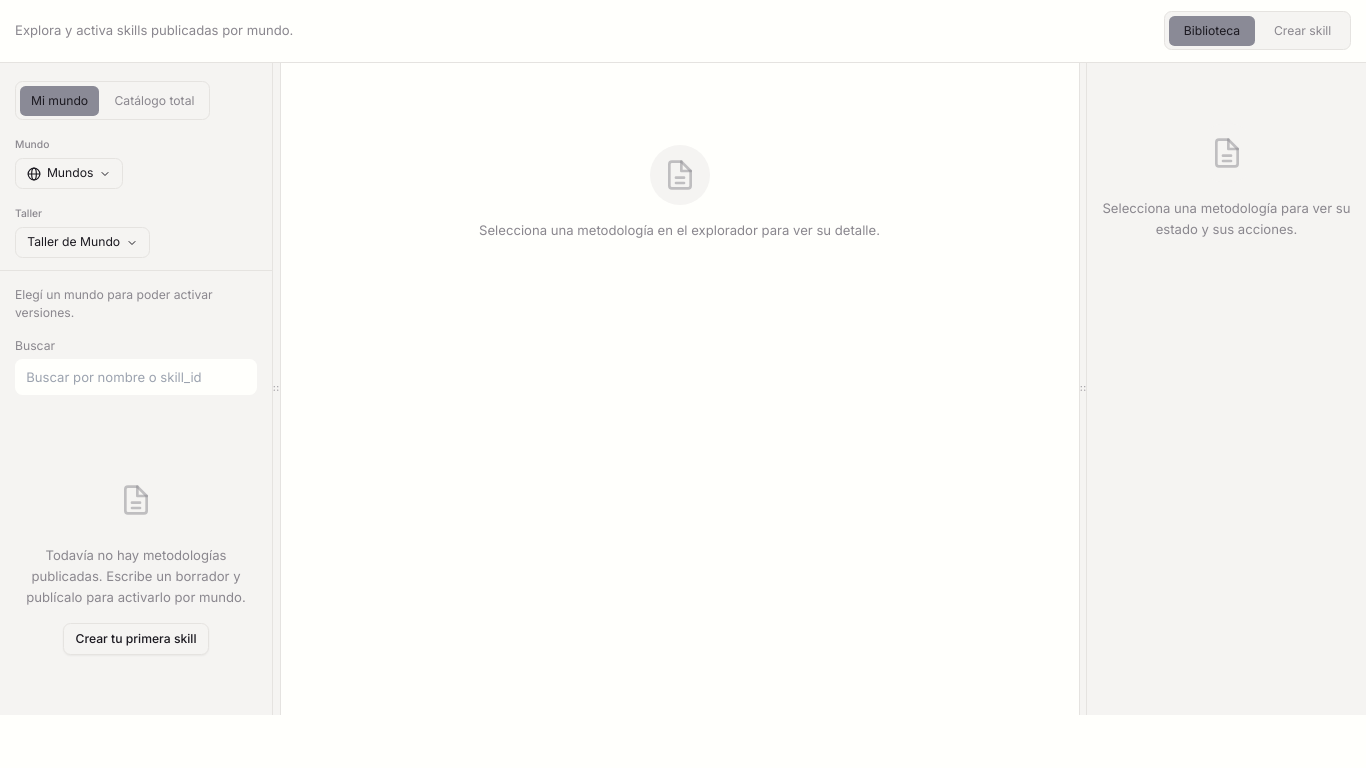
Test: ToolWorkshop — TW13 adaptation entry on published rows › derives an Oficiales skill through the gate and opens the co-creation tab
Click the tab "Catálogo total" at (154, 101), box left=103, top=86, right=206, bottom=116
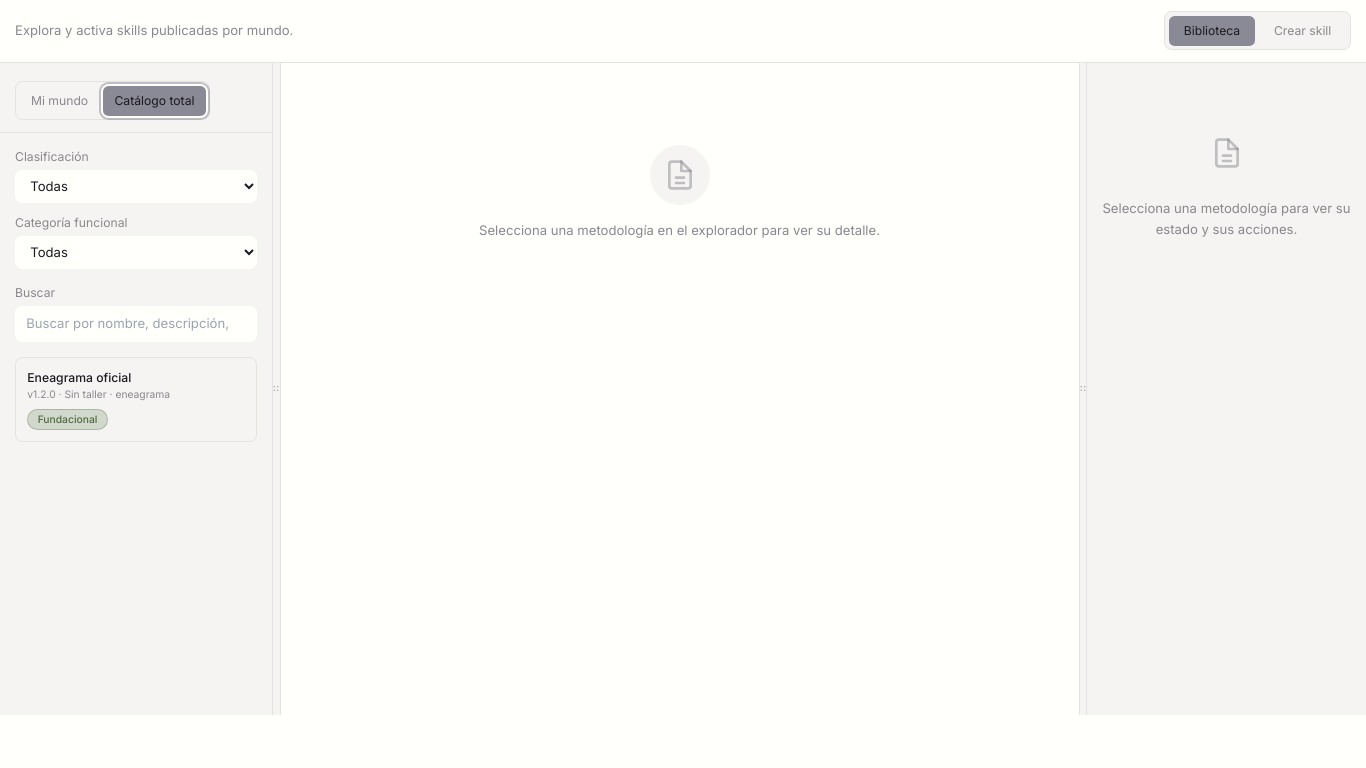
expect the text "Eneagrama oficial" is shown: met
Click the text "Eneagrama oficial" at (79, 378), box left=27, top=370, right=131, bottom=385
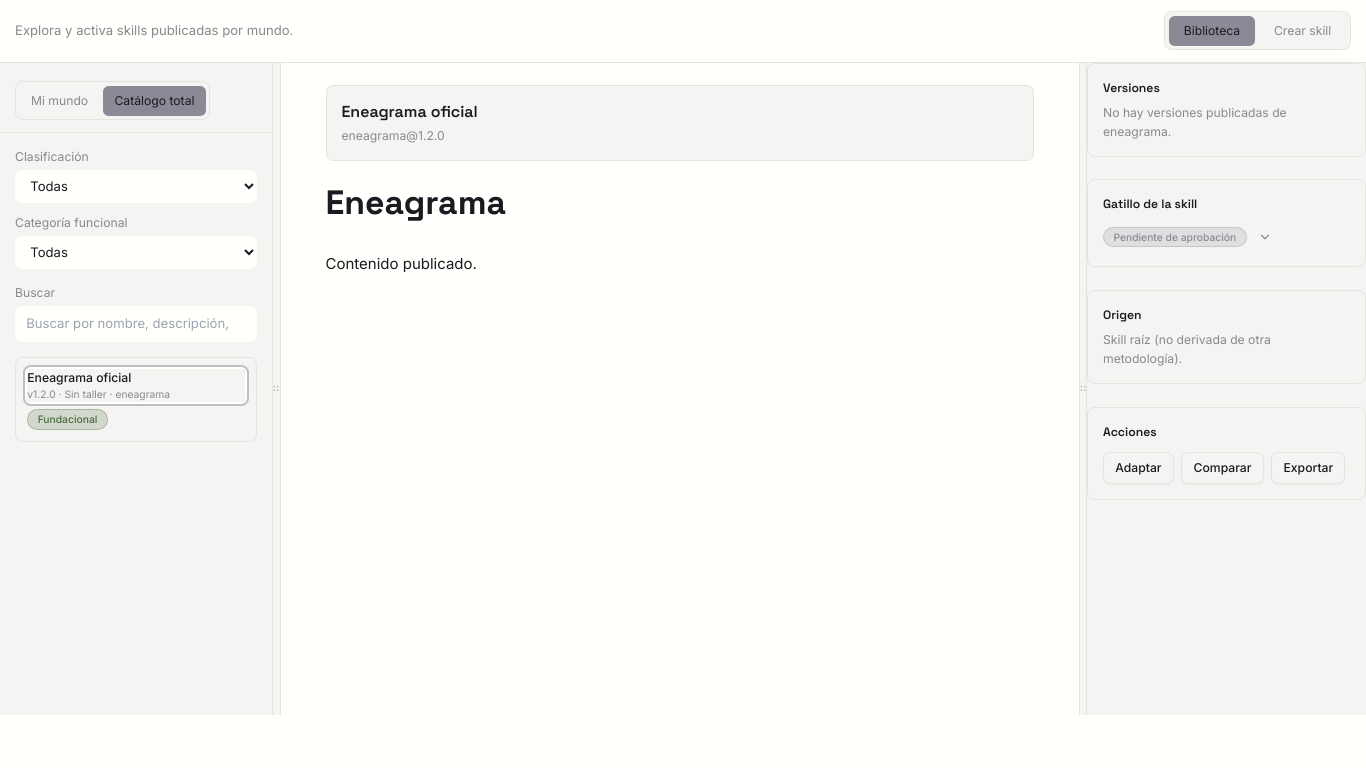
Click the button "Adaptar" at (1138, 468), box left=1103, top=452, right=1174, bottom=484
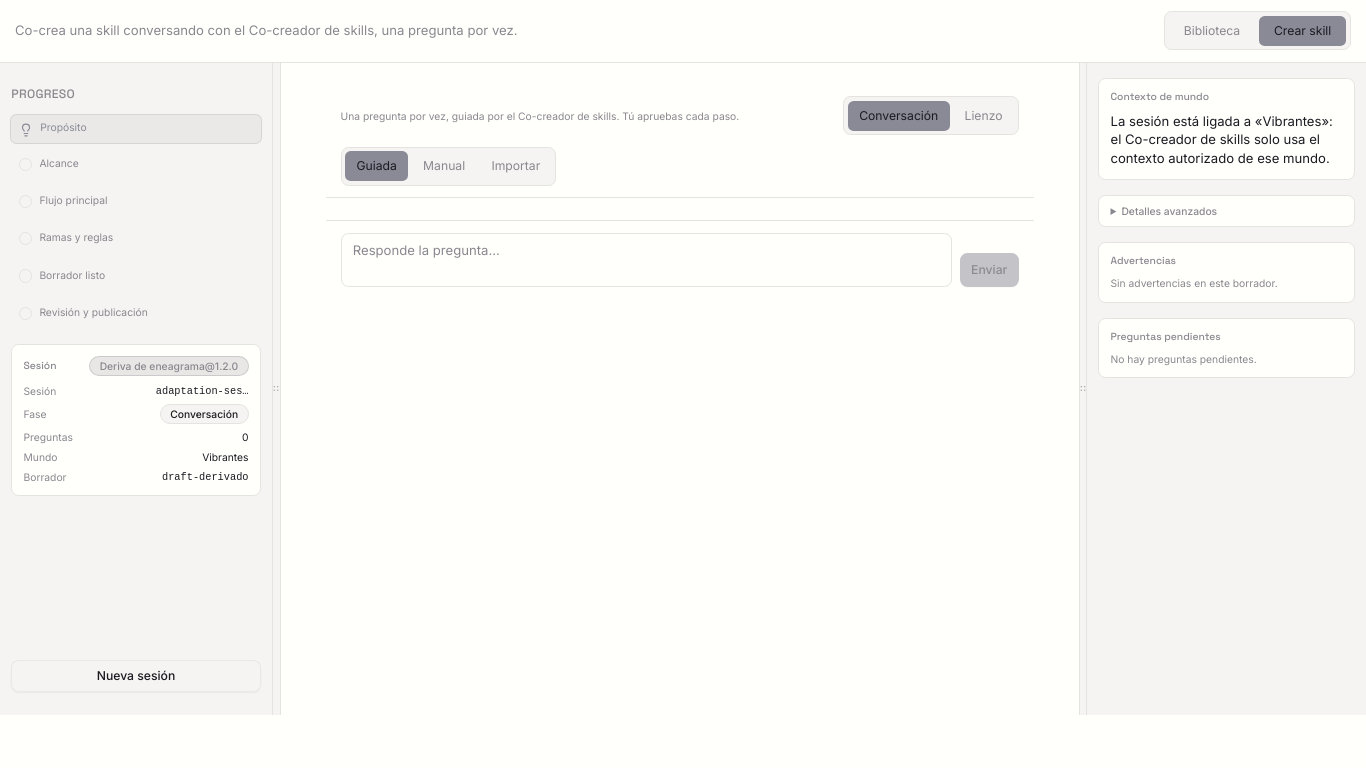
expect the text "Co-crea una skill conversando con el Co-creador de skills, una pregunta por vez." is shown: met, box left=15, top=20, right=518, bottom=41
